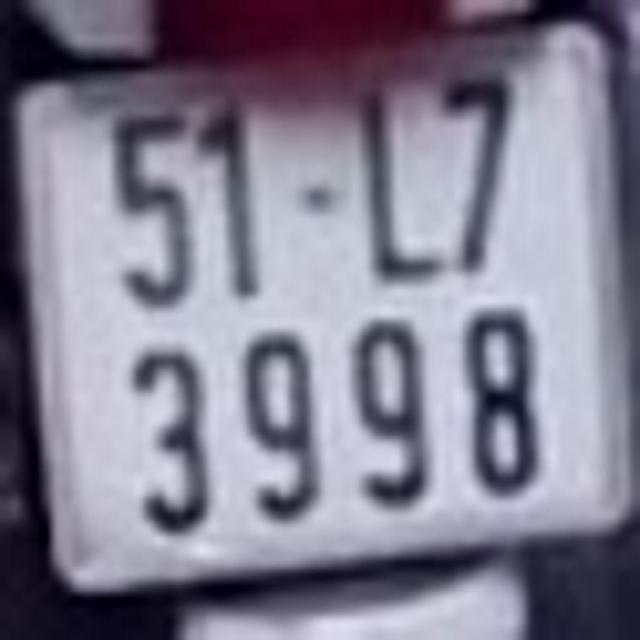1: (198, 110, 264, 308)
3: (132, 348, 208, 534)
5: (110, 110, 196, 308)
7: (446, 85, 512, 266)
8: (462, 304, 534, 495)
9: (244, 330, 319, 521), (354, 318, 426, 508)
L: (354, 85, 442, 278)
